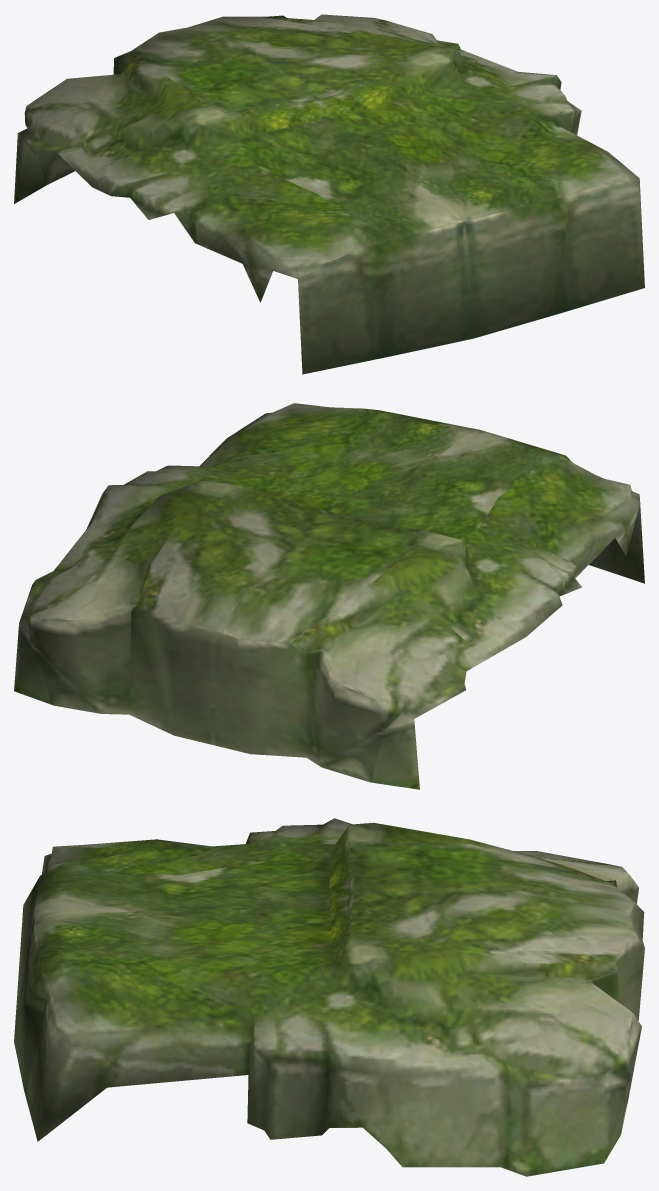
Rendered from S_Rock_Green056_1060_1.fbx.
3 renders of one model, top to bottom at view 1: azimuth 30°, elevation 25°; view 2: azimuth 150°, elevation 25°; view 3: azimuth 270°, elevation 25°, orthographic. The views are drawn at different scales.
Parts seen in each view (by area): view 1: S_Rock_Green056; view 2: S_Rock_Green056; view 3: S_Rock_Green056.
Boxes of the visible parts, <box> form: S_Rock_Green056: <box>14,14,644,374</box>; S_Rock_Green056: <box>14,403,644,789</box>; S_Rock_Green056: <box>14,818,644,1176</box>.
Bounding box in the file's own units: 1249 × 389 × 1361.
